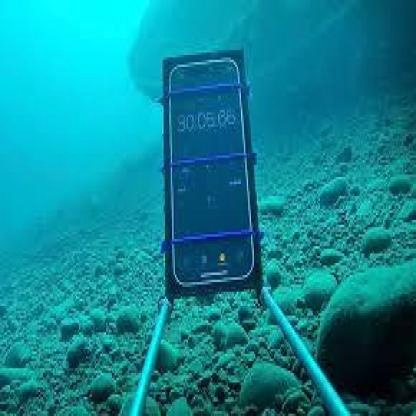cellphone: (168, 60, 258, 292)
